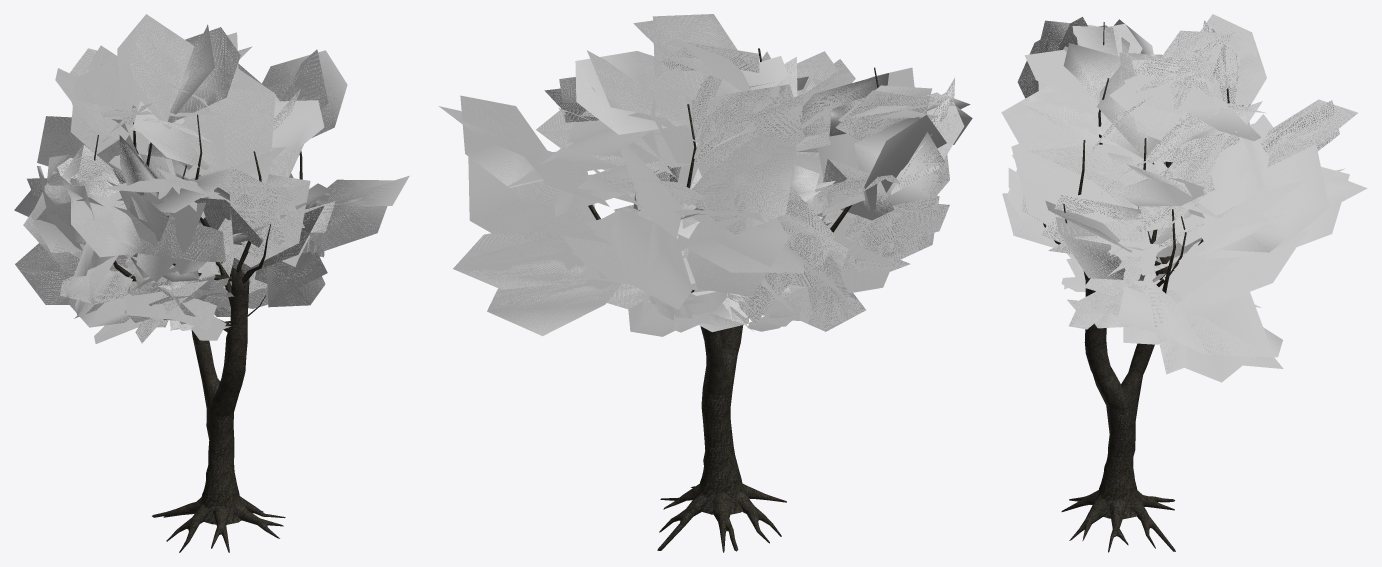
File: large_oak_sparse.DAE
The picture shows the model from 3 angles, left to right: view 1: azimuth 30°, elevation 25°; view 2: azimuth 150°, elevation 25°; view 3: azimuth 270°, elevation 25°; orthographic projection. The views are drawn at different scales.
Visible parts, largest first — view 1: large_oak_test_01_02, large_oak_test_01_Bark; view 2: large_oak_test_01_02, large_oak_test_01_Bark; view 3: large_oak_test_01_02, large_oak_test_01_Bark.
Part boxes in pixels (<box>): large_oak_test_01_02: <box>14,14,409,343</box>; large_oak_test_01_Bark: <box>94,114,302,552</box>; large_oak_test_01_02: <box>438,14,972,336</box>; large_oak_test_01_Bark: <box>588,48,878,552</box>; large_oak_test_01_02: <box>1001,14,1367,382</box>; large_oak_test_01_Bark: <box>1043,22,1229,552</box>.
Bounding box in the file's own units: 20.36 × 23.67 × 15.78.
